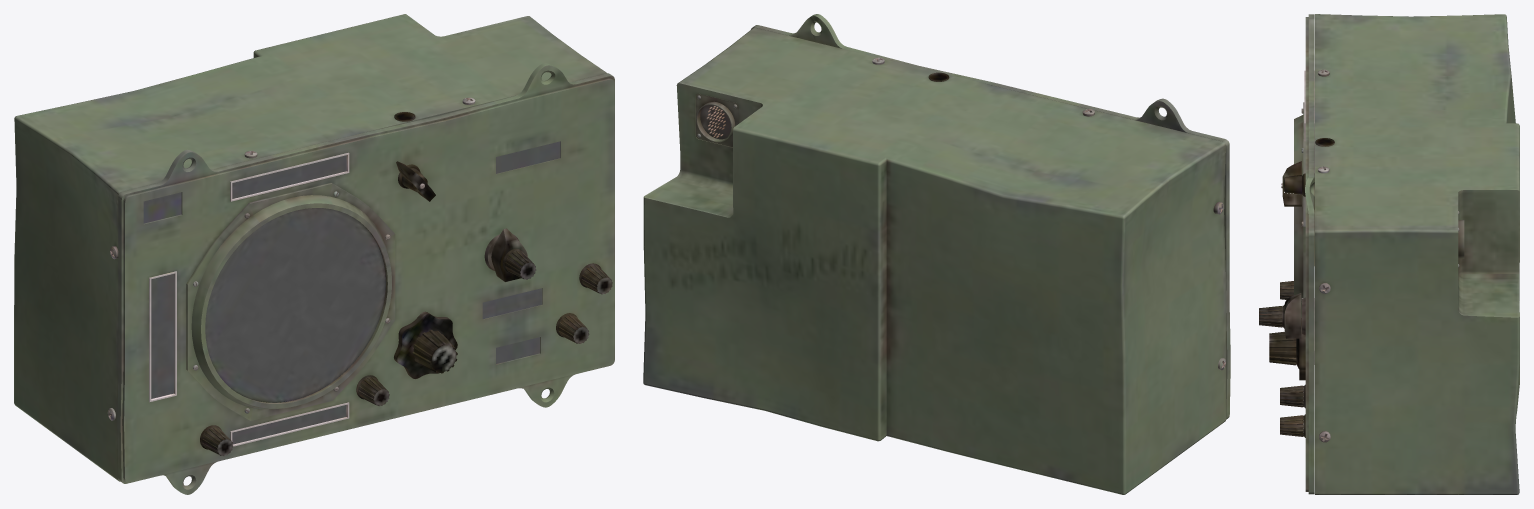
The model's file is vintage_spacecraft_instrument.glb.
The picture shows the model from 3 angles, left to right: view 1: azimuth 30°, elevation 25°; view 2: azimuth 150°, elevation 25°; view 3: azimuth 270°, elevation 25°; orthographic projection. The views are drawn at different scales.
Visible parts, largest first — view 1: vintage_spacecraft_instrument; view 2: vintage_spacecraft_instrument; view 3: vintage_spacecraft_instrument.
Boxes of the visible parts, x1,y1,x2,y2 form: vintage_spacecraft_instrument: (14,14,614,494); vintage_spacecraft_instrument: (643,14,1230,494); vintage_spacecraft_instrument: (1259,14,1519,494).
Bounding box in the file's own units: 0.4103 × 0.2693 × 0.2044.
2 materials, 2 textured.
